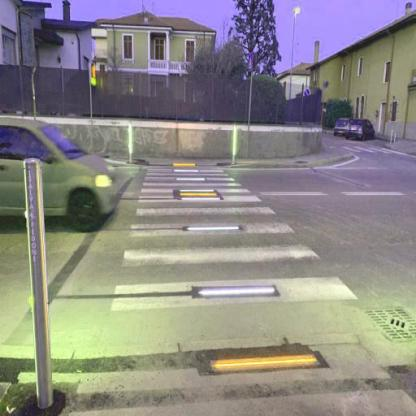crosswalk: (95, 241, 362, 313), (127, 193, 278, 218), (139, 174, 245, 188)
